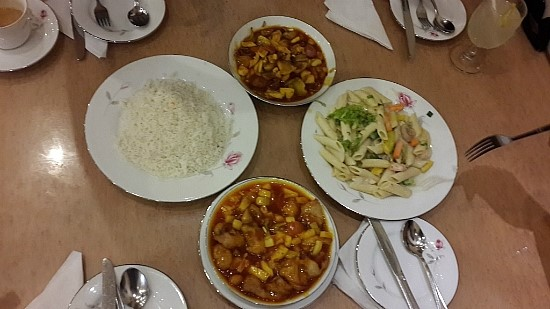boiled potatoes: (261, 222, 305, 266)
plain rice: (133, 87, 219, 171)
plain spaghetti: (321, 97, 428, 191)
